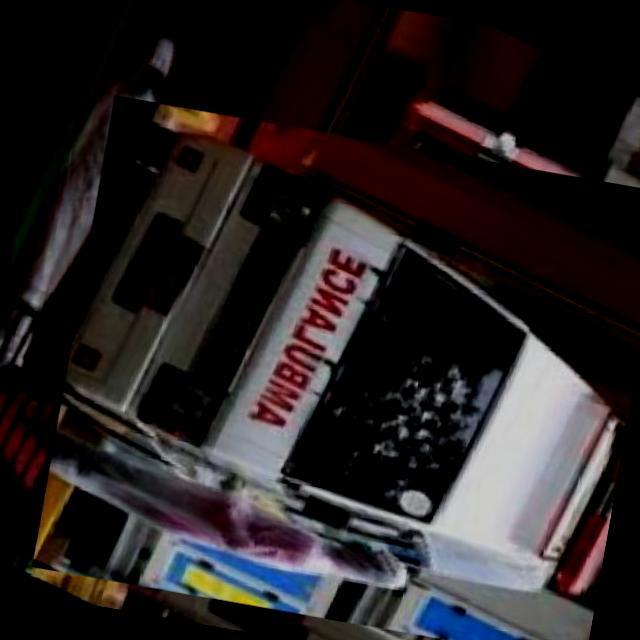emergency-vehicle: (61, 64, 640, 640)
